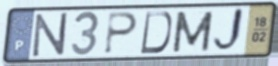3: (70, 9, 101, 59)
D: (138, 10, 174, 55)
J: (210, 6, 246, 56)
M: (171, 10, 216, 54)
N: (31, 11, 69, 60)
P: (102, 11, 140, 56)
